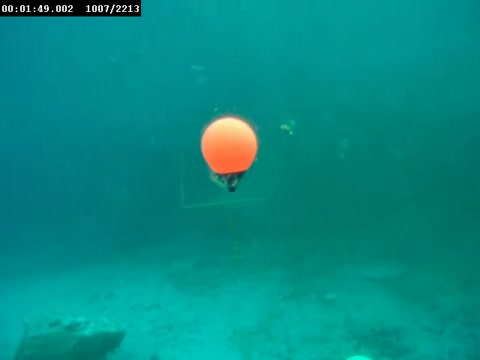buoy_red: (197, 110, 261, 196)
